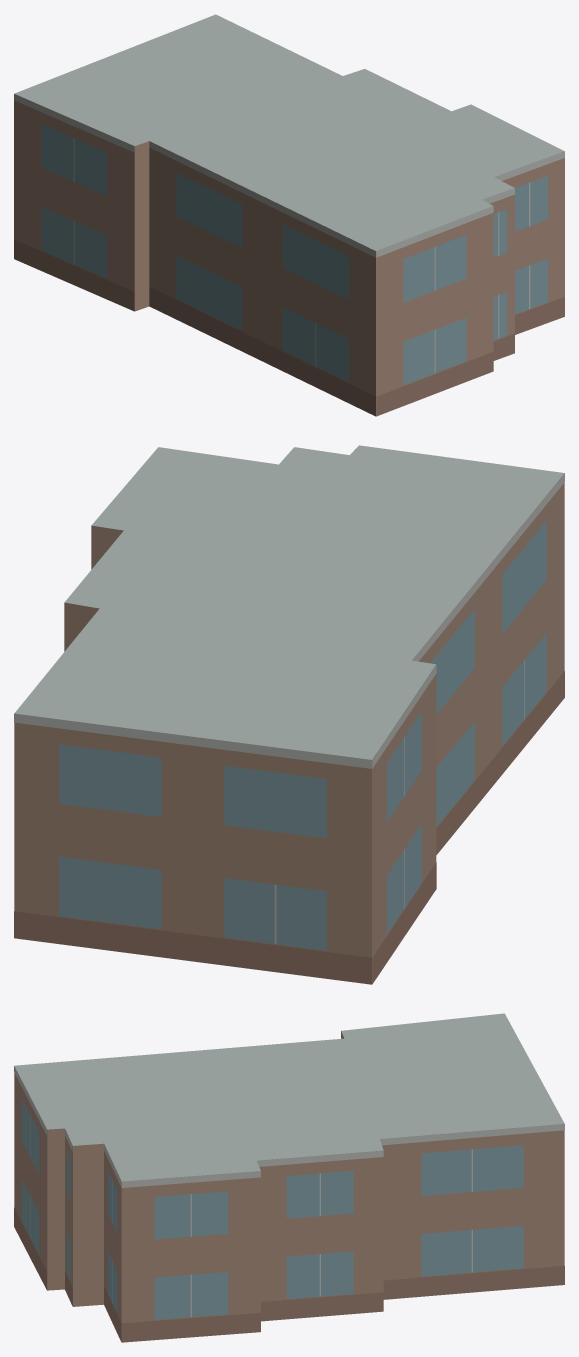
The model's file is survey-upis-32604756.glb.
3 views of the same model, one above another, from view 1: azimuth 30°, elevation 25°; view 2: azimuth 150°, elevation 25°; view 3: azimuth 270°, elevation 25° (orthographic). The views are drawn at different scales.
Visible parts, largest first — view 1: survey-upis-32604756.tmp; view 2: survey-upis-32604756.tmp; view 3: survey-upis-32604756.tmp.
Part boxes in pixels (x1,y1,x2,y2): survey-upis-32604756.tmp: (14,14,564,416); survey-upis-32604756.tmp: (14,445,564,984); survey-upis-32604756.tmp: (14,1013,564,1342).
Bounding box in the file's own units: 13.68 × 6.1 × 18.92.
